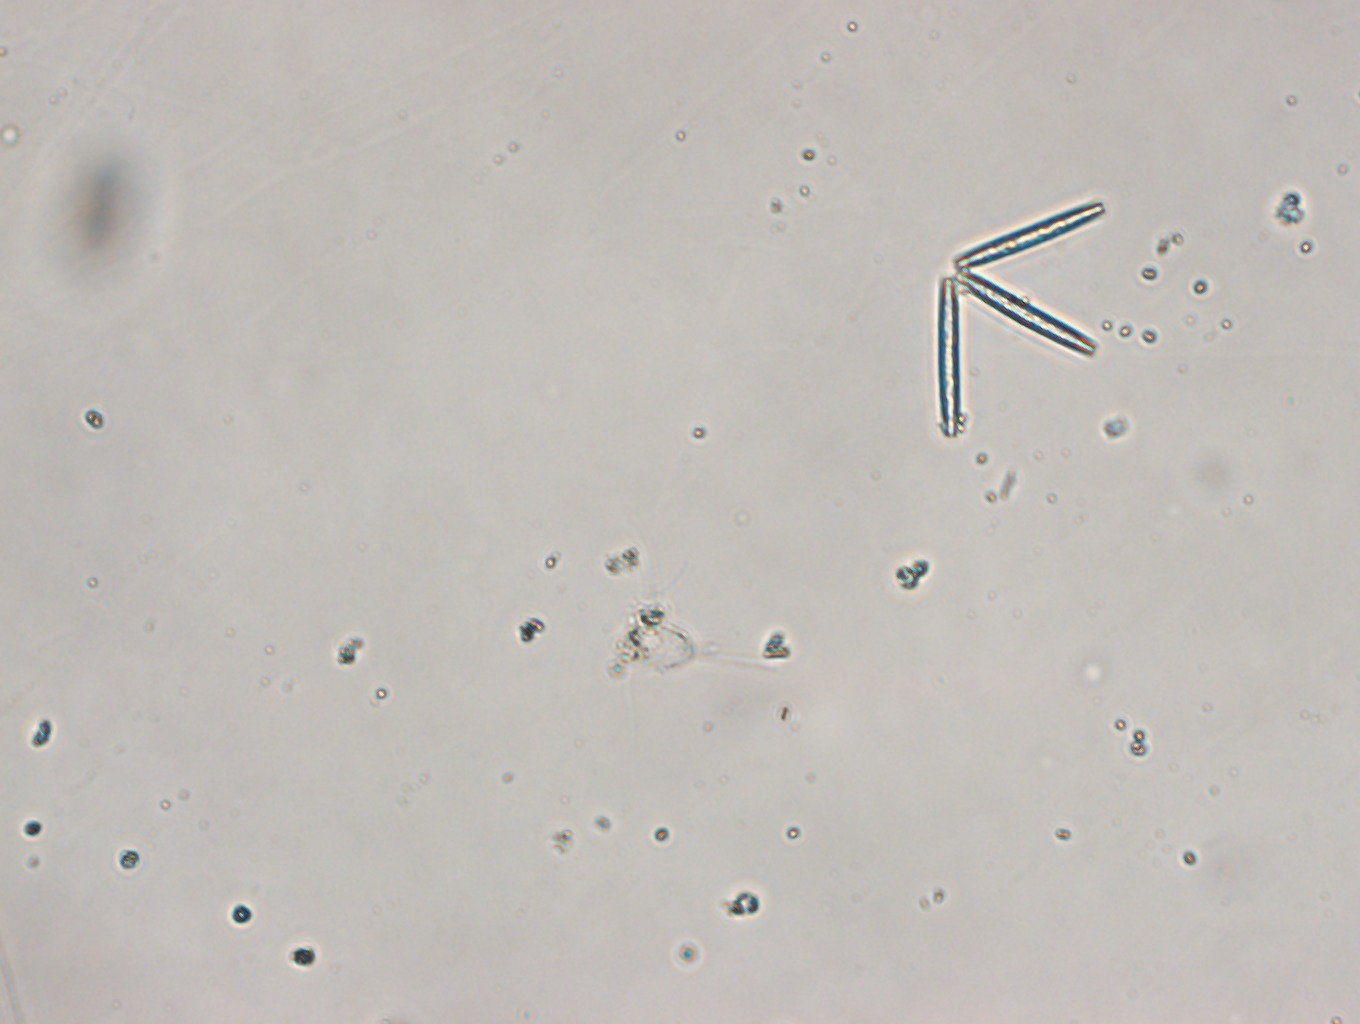thalassionema frauenfeldii: (934, 197, 1120, 432)
